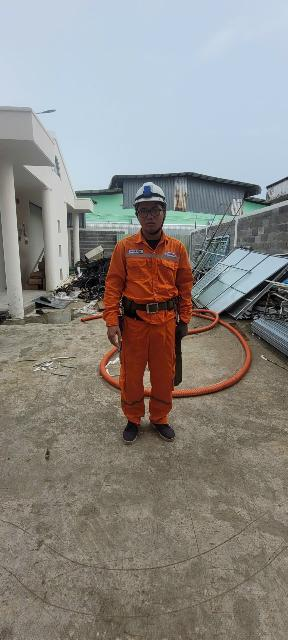harness: (116, 294, 176, 328)
helmet: (123, 177, 183, 214)
shoes: (153, 416, 183, 450), (118, 420, 146, 448)
